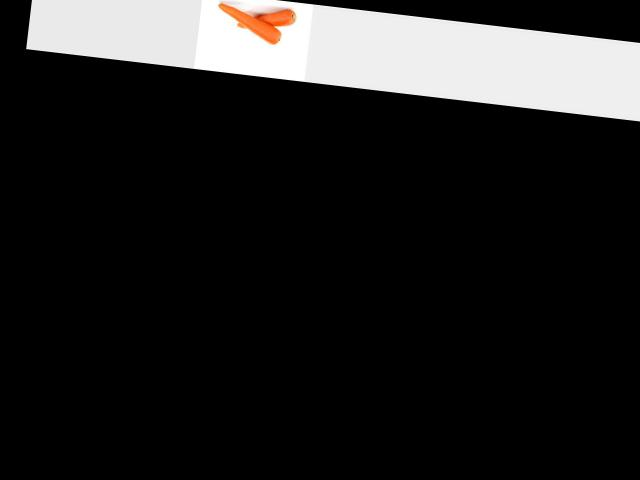carrot: (231, 1, 300, 37)
